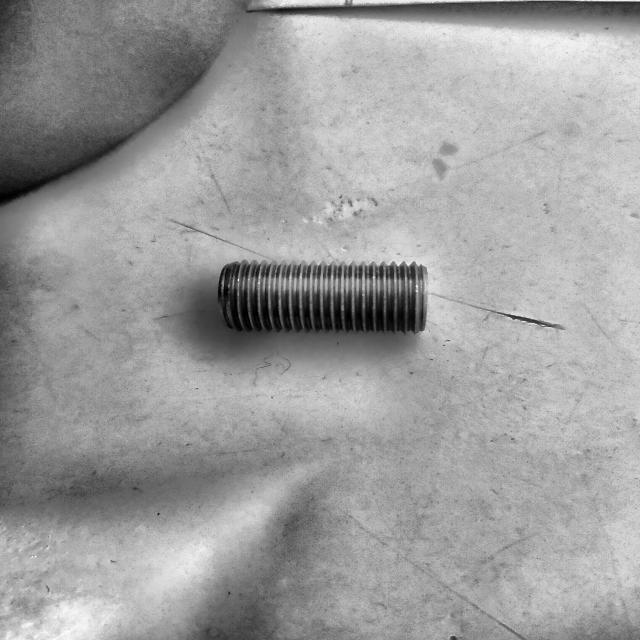Normal: (213, 258, 431, 340)
